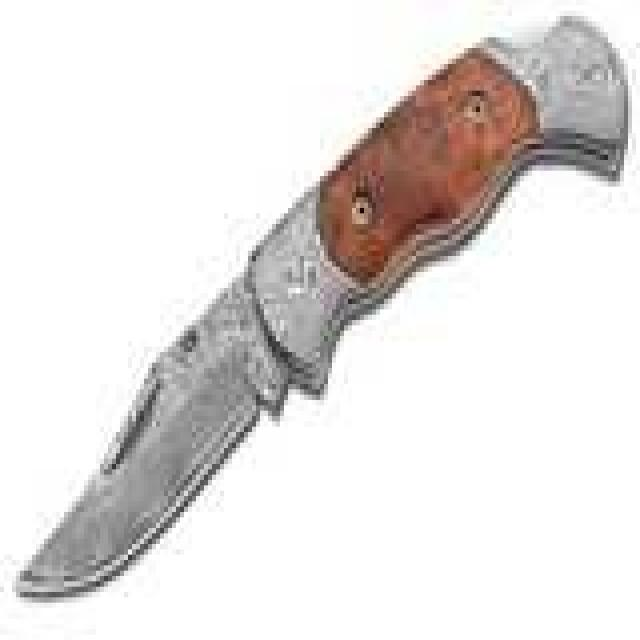weapon: (16, 18, 637, 604)
